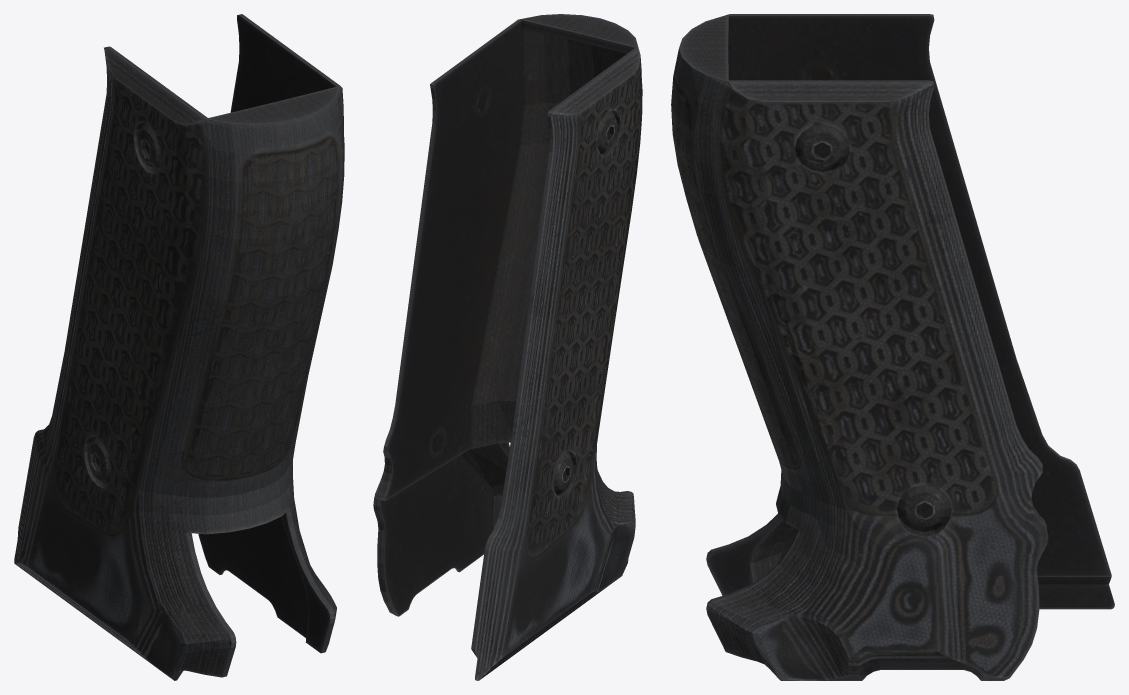
3 views of the same model, side by side, from view 1: azimuth 30°, elevation 25°; view 2: azimuth 150°, elevation 25°; view 3: azimuth 270°, elevation 25° (orthographic). The views are drawn at different scales.
Parts seen in each view (by area): view 1: TW_5bffef760db8340019668fe4_PZ_Import; view 2: TW_5bffef760db8340019668fe4_PZ_Import; view 3: TW_5bffef760db8340019668fe4_PZ_Import.
Part boxes in pixels (x1,y1,x2,y2): TW_5bffef760db8340019668fe4_PZ_Import: [14, 14, 344, 680]; TW_5bffef760db8340019668fe4_PZ_Import: [373, 14, 642, 680]; TW_5bffef760db8340019668fe4_PZ_Import: [671, 14, 1114, 680].
Bounding box in the file's own units: 0.019 × 0.0424 × 0.0629.
Materials: 1 (1 with a texture image).
